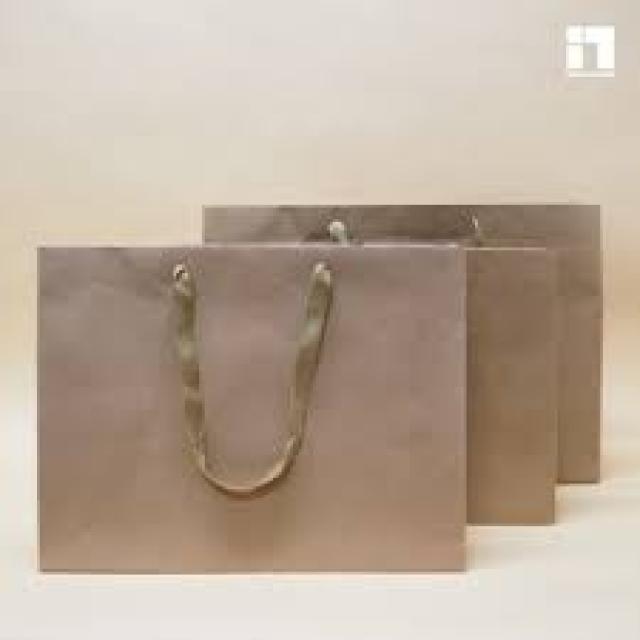paper bag: (33, 246, 470, 580)
